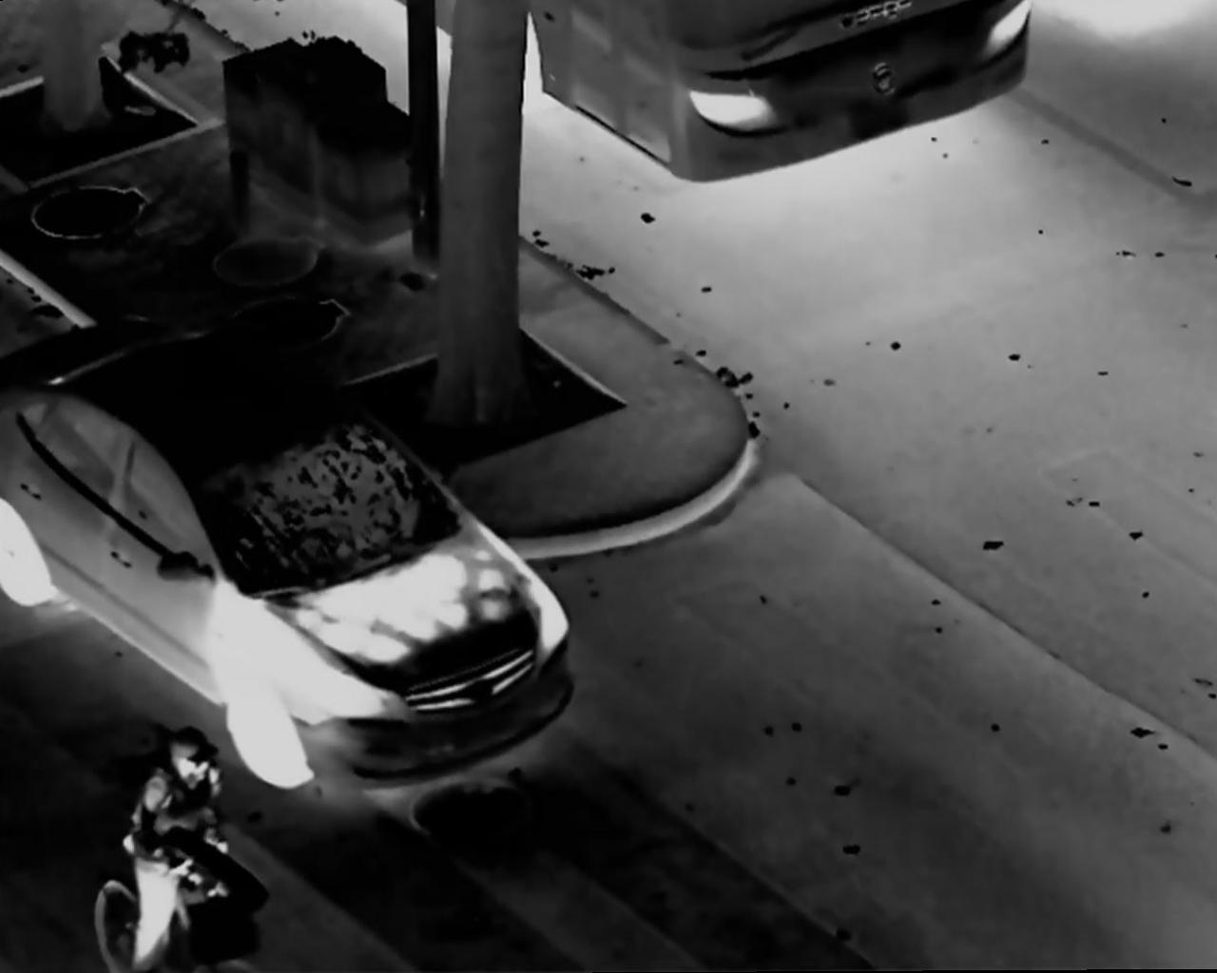person: (119, 725, 232, 973)
